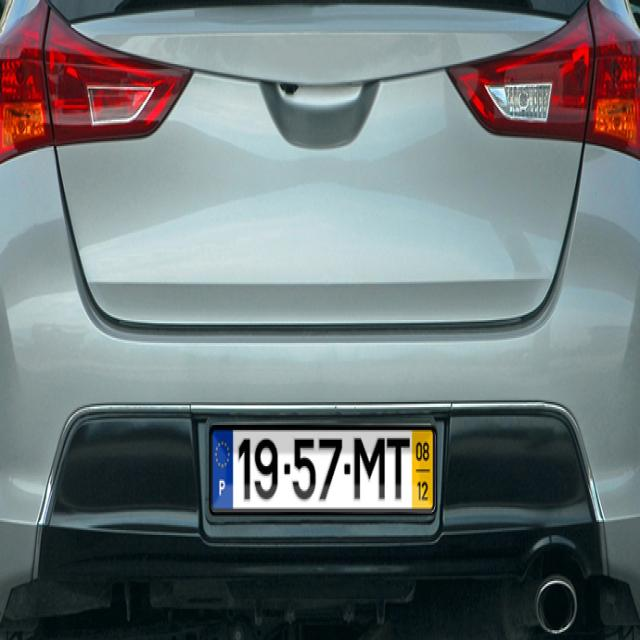portuguese-license-plates: (204, 418, 443, 524)
